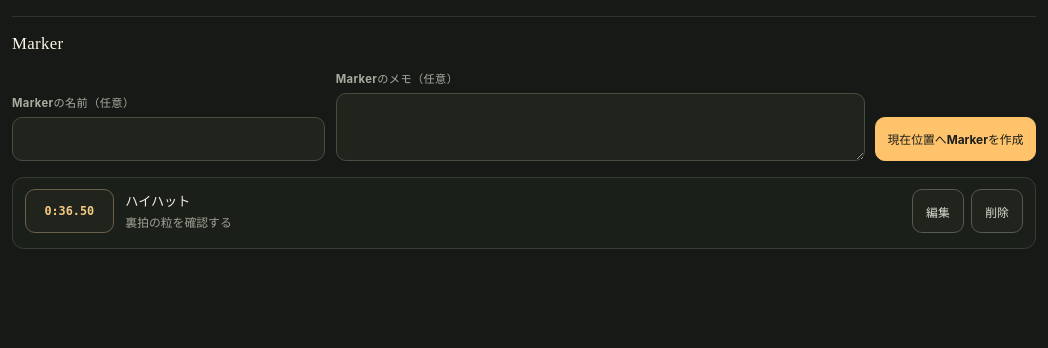
Test: MarkerPanel Story 0006 contract › requires inline confirmation before soft deletion and restores the same Marker
Click the button with aria-label "0:36.50のMarkerを削除".
click(997, 211)  # box [971,189,1024,233]
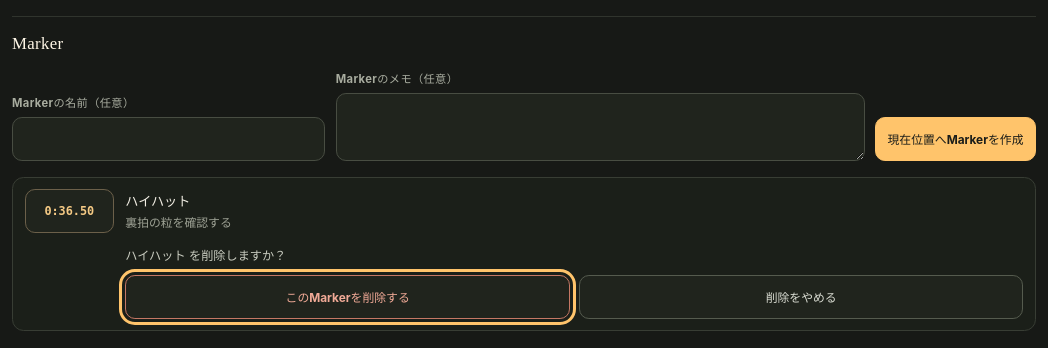
Now the element named "0:36.50のMarker削除確認" shows "ハイハット", box [125,248,186,263]
Click the button "このMarkerを削除する".
click(348, 297)  # box [125,275,570,319]
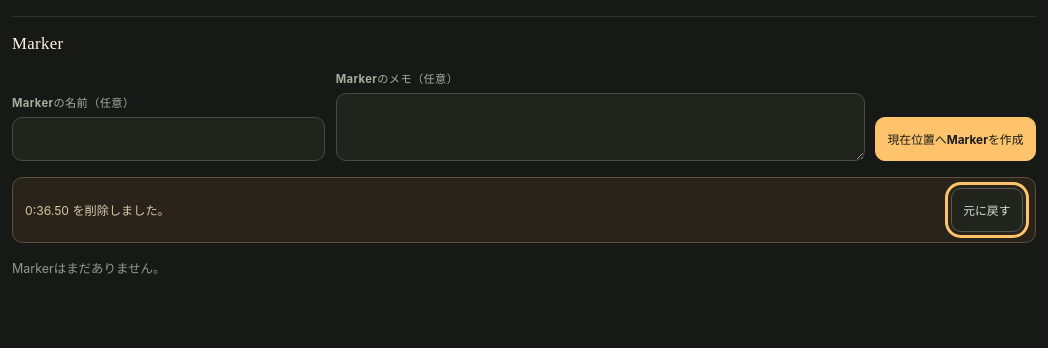
Now the message named "Markerを削除しました" shows "0:36.50", box [25,203,69,218]
Click the button "元に戻す".
click(987, 210)  # box [951,188,1023,232]
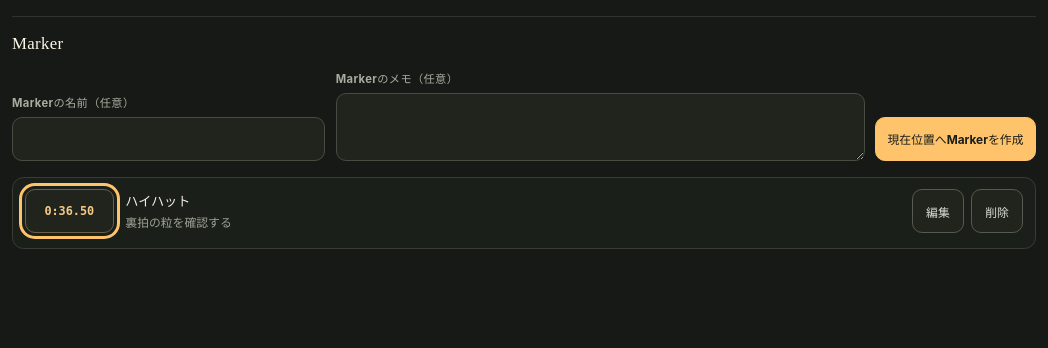
Expected: the button named "0:36.50へ移動" is shown, [24,189,114,233]
Now the message "Markerを削除しました" is gone
